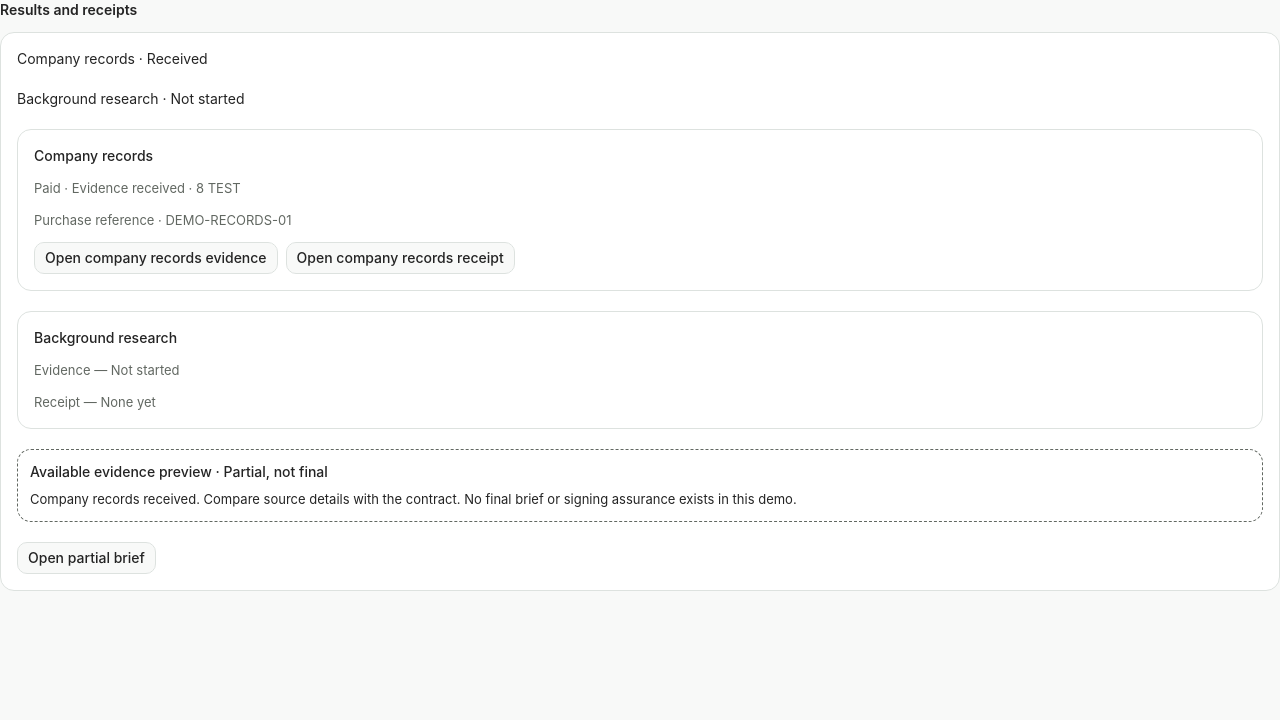
Test case: F2 never-started background wording at active; first result and receipt retained
Expected: the text "Background research · Not started" is shown, top-left (17, 90), bottom-right (244, 107)
Click the button "Open company records evidence".
click(156, 258)  # box top-left (34, 242), bottom-right (278, 274)
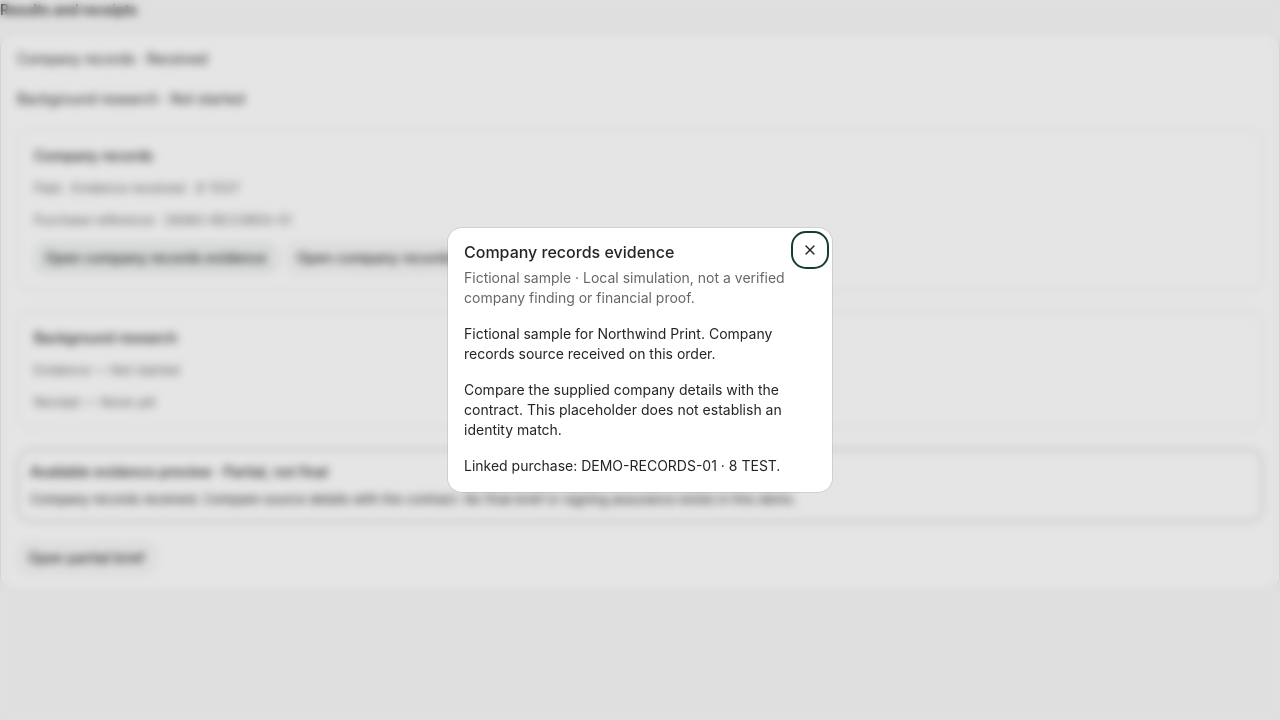
Expected: the text "Linked purchase: DEMO-RECORDS-01 · 8 TEST." is shown, top-left (464, 456), bottom-right (816, 476)
Press Escape
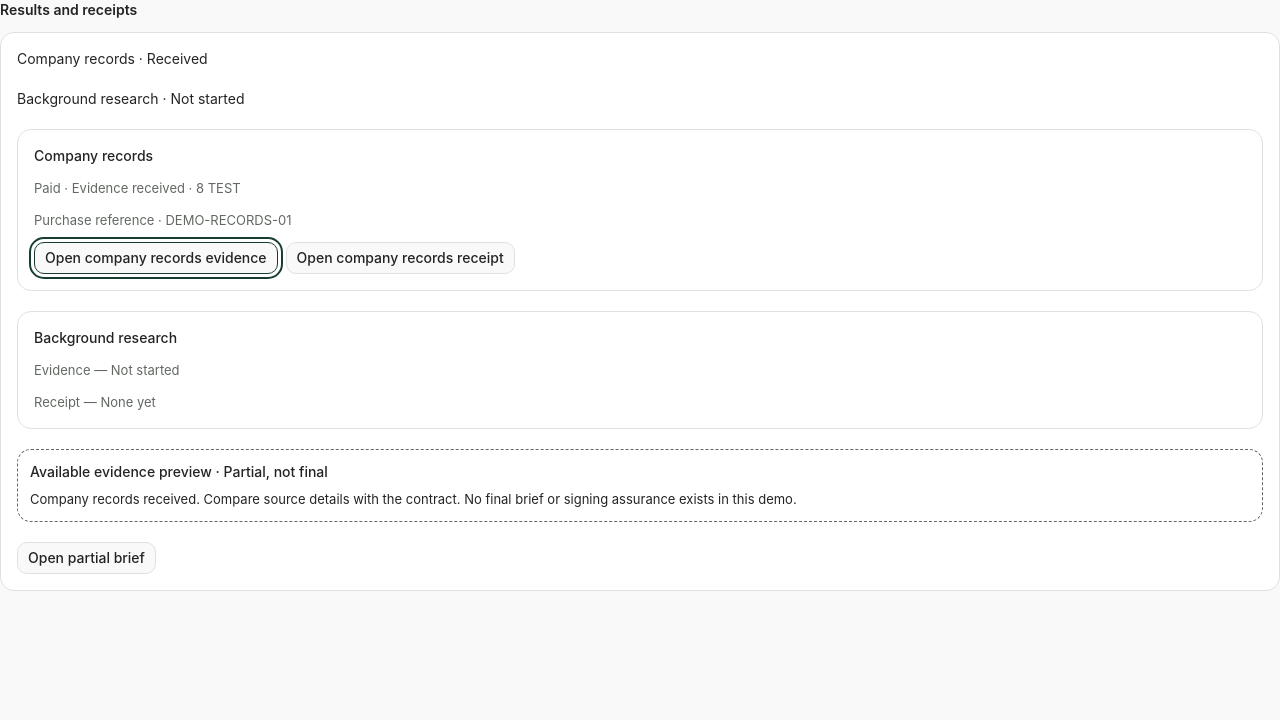
Click the button "Open company records receipt".
click(400, 258)  # box top-left (286, 242), bottom-right (515, 274)
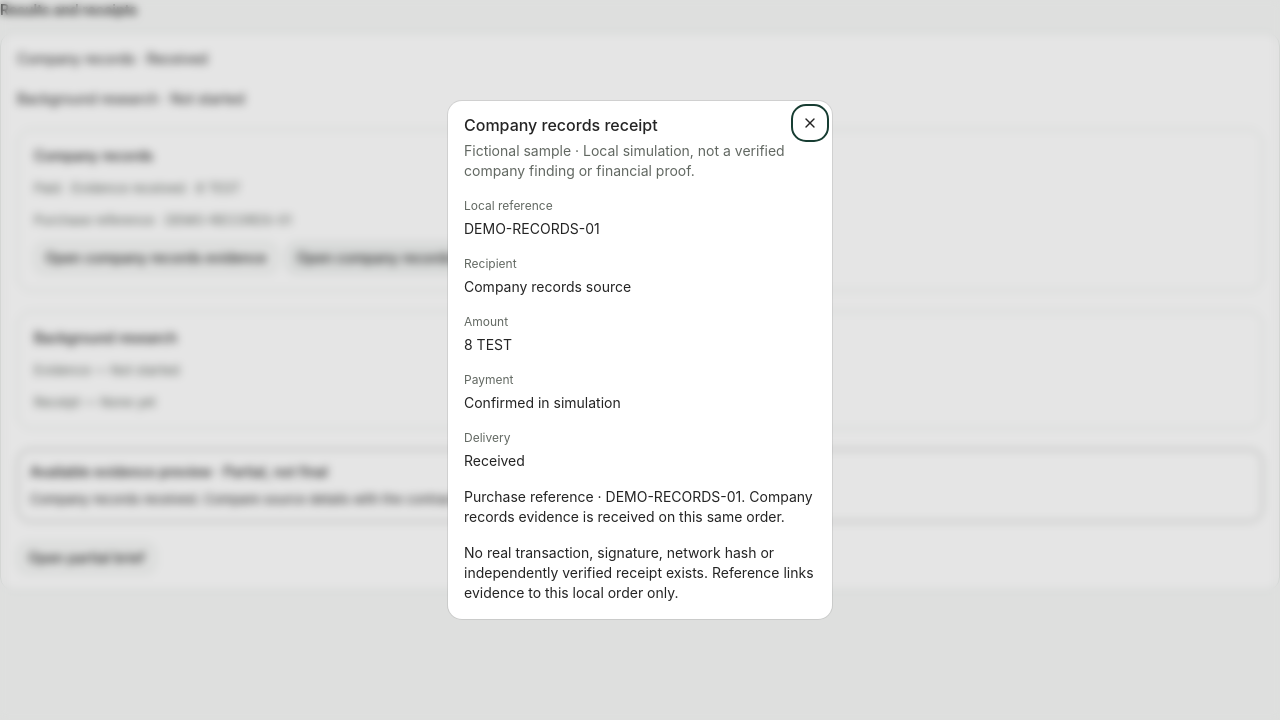
Expected: the text "DEMO-RECORDS-01" is shown, top-left (464, 220), bottom-right (600, 237)
Expected: the text "Received" is shown, top-left (464, 452), bottom-right (525, 469)
Expected: the text "8 TEST" is shown, top-left (464, 336), bottom-right (512, 353)
